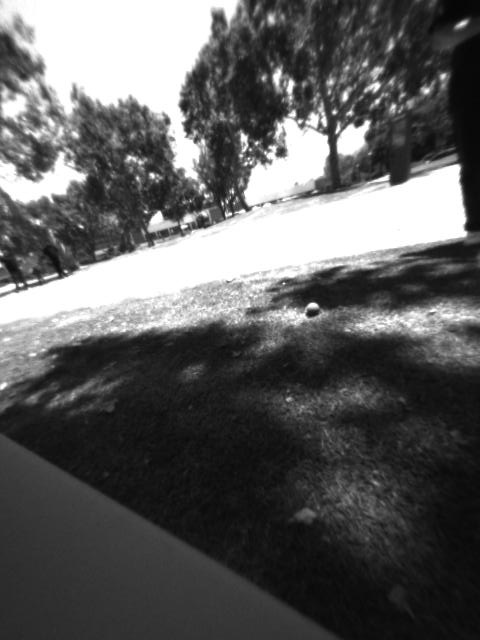dogtoy: (293, 292, 330, 329)
